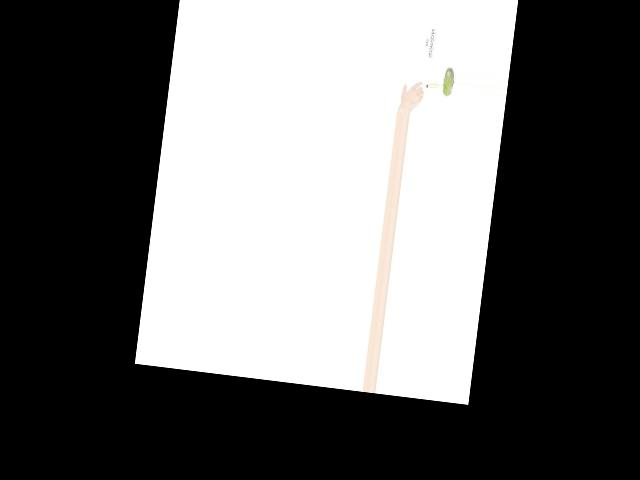cucumber: (441, 67, 454, 97)
